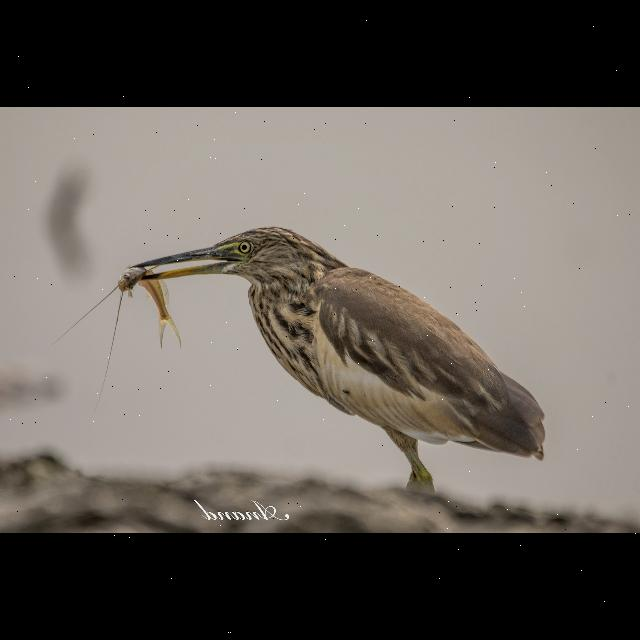heron: (116, 220, 552, 500)
